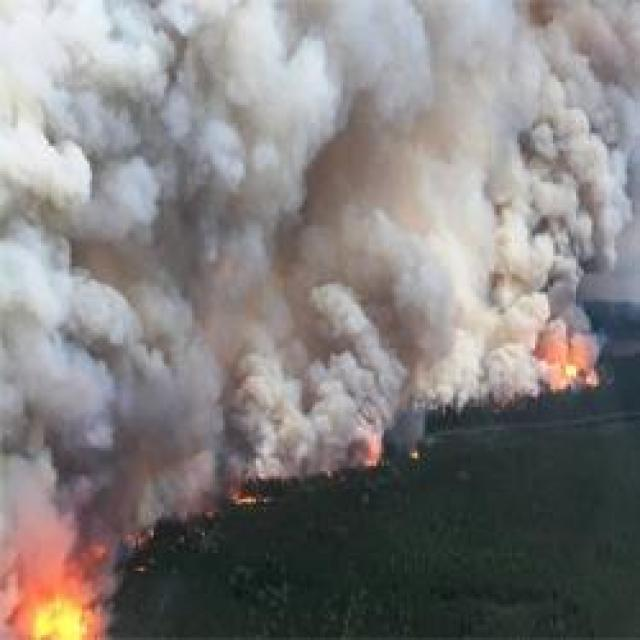Fire: (0, 440, 111, 639), (560, 341, 600, 395)
Smoke: (14, 38, 640, 254), (2, 164, 466, 391)
